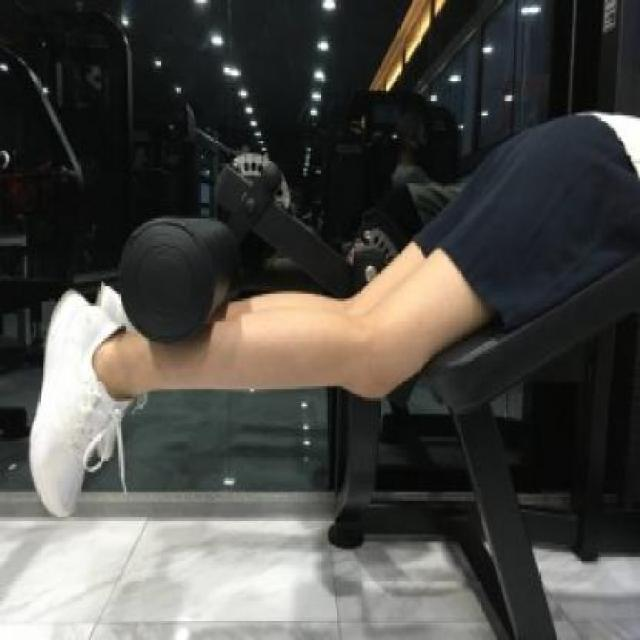reg curl machine: (24, 98, 640, 530)
